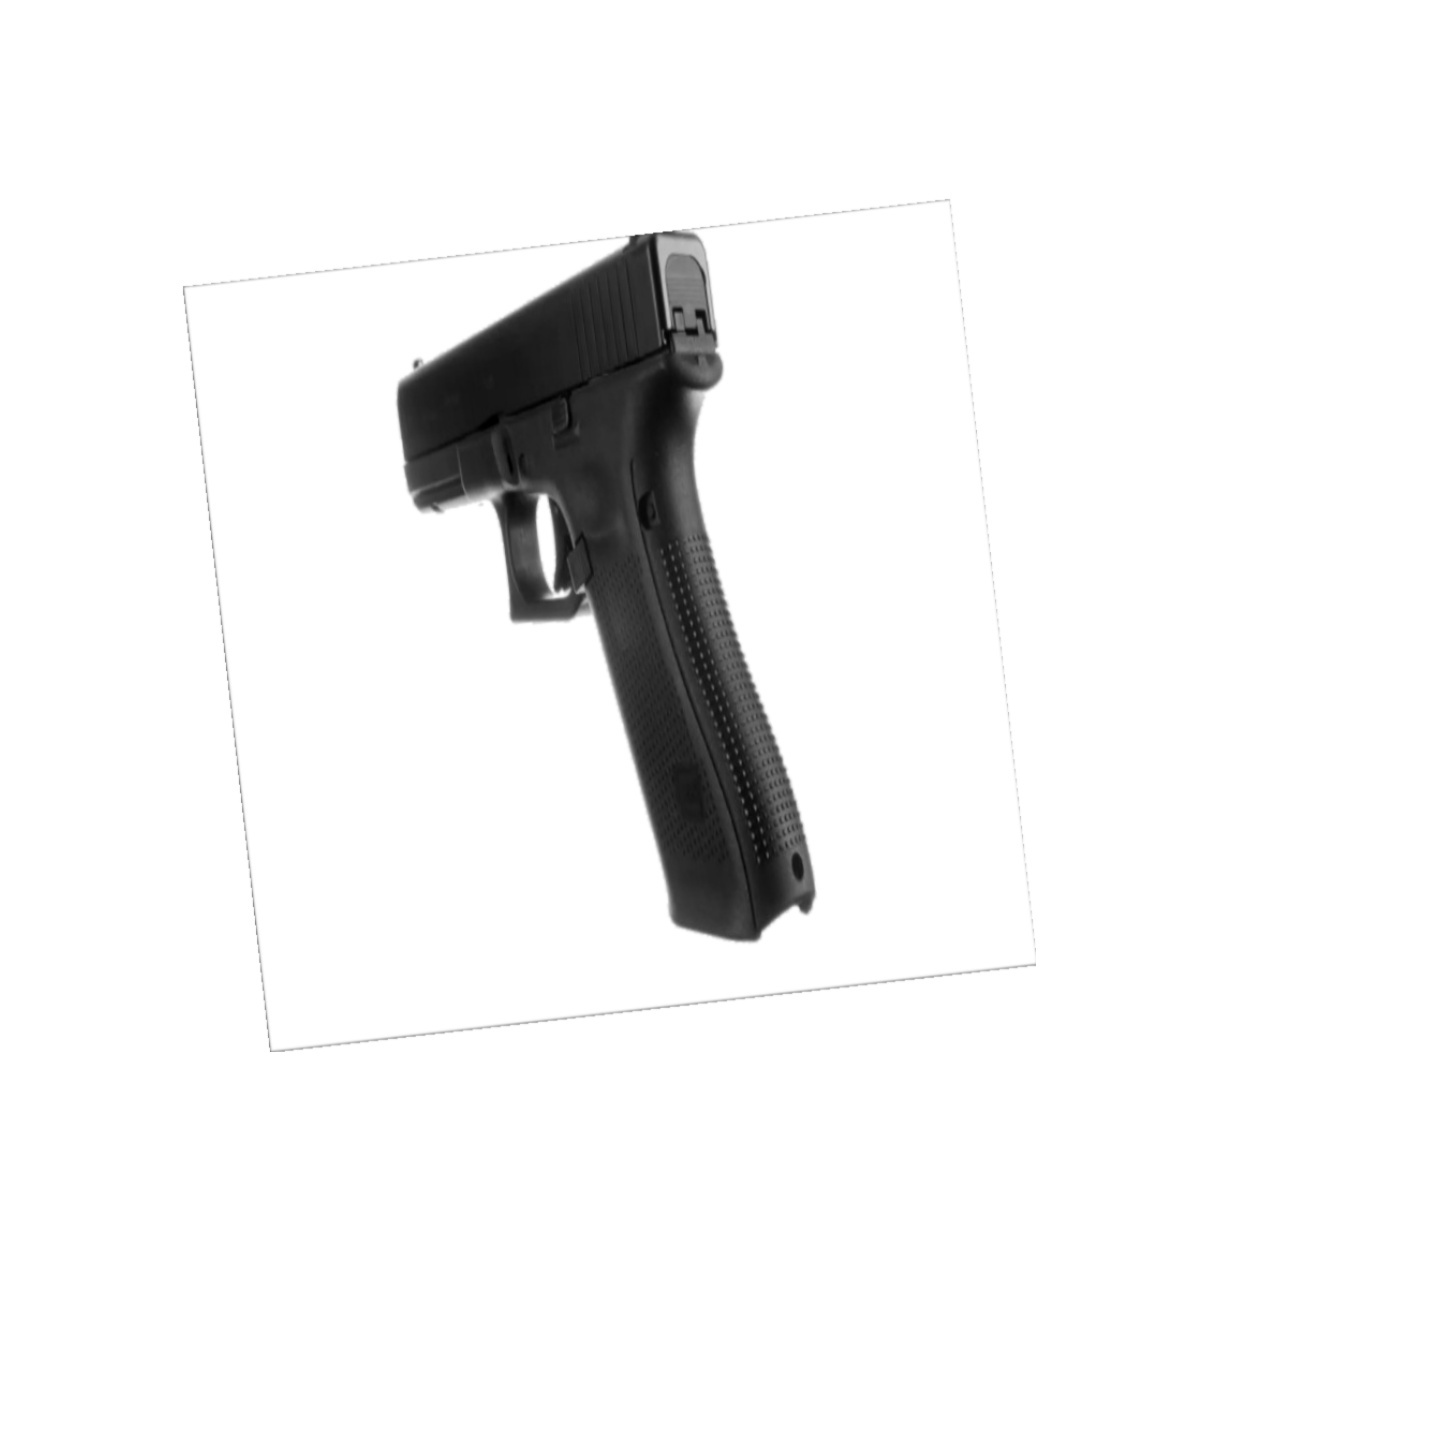gun: (390, 225, 823, 945)
